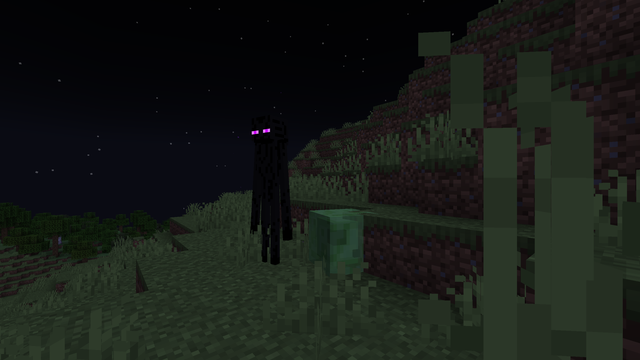endermens: (249, 108, 291, 268)
slimes: (304, 206, 380, 278)
